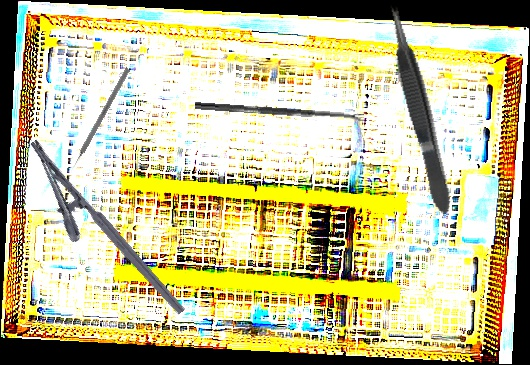Hook Surgical: (68, 67, 131, 174)
Needle Holder: (6, 137, 186, 337)
Surgical Spoon: (194, 102, 365, 122)
Tissue Forceps: (382, 0, 456, 218)
